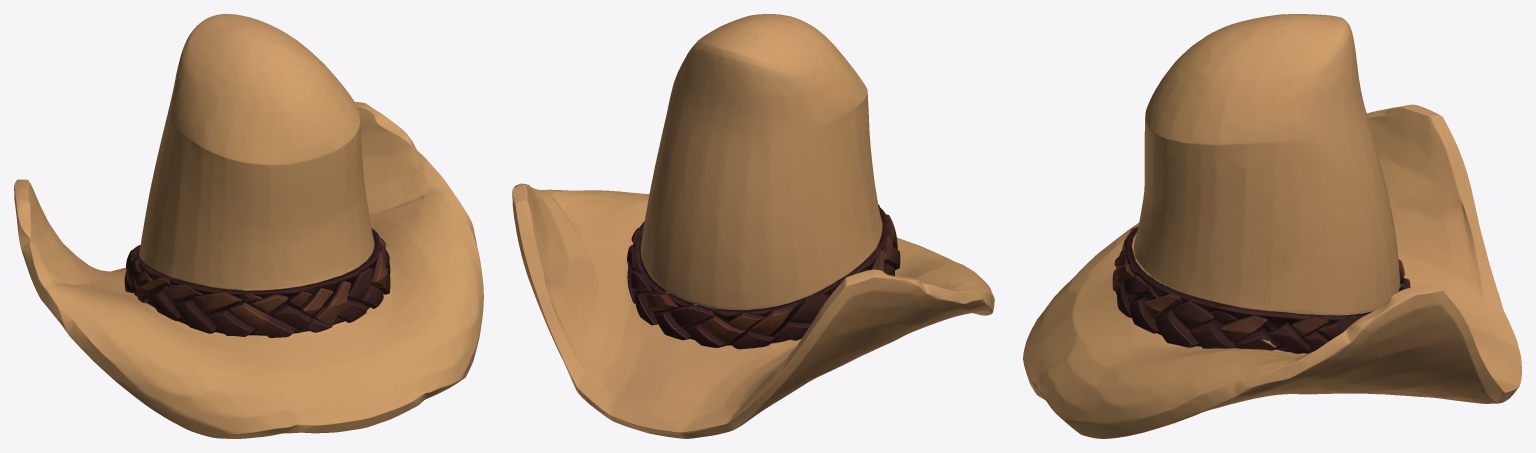
File: hat_ten_gallon.glb
3 renders of one model, left to right at view 1: azimuth 30°, elevation 25°; view 2: azimuth 150°, elevation 25°; view 3: azimuth 270°, elevation 25°, orthographic. The views are drawn at different scales.
Parts seen in each view (by area): view 1: Mesh_0; view 2: Mesh_0; view 3: Mesh_0.
Part boxes in pixels (x1,y1,x2,y2): Mesh_0: [14, 14, 483, 438]; Mesh_0: [512, 14, 994, 438]; Mesh_0: [1023, 14, 1521, 438].
Size of the model in its own units: 0.58 by 0.4347 by 0.5471.
1 material, 1 textured.
